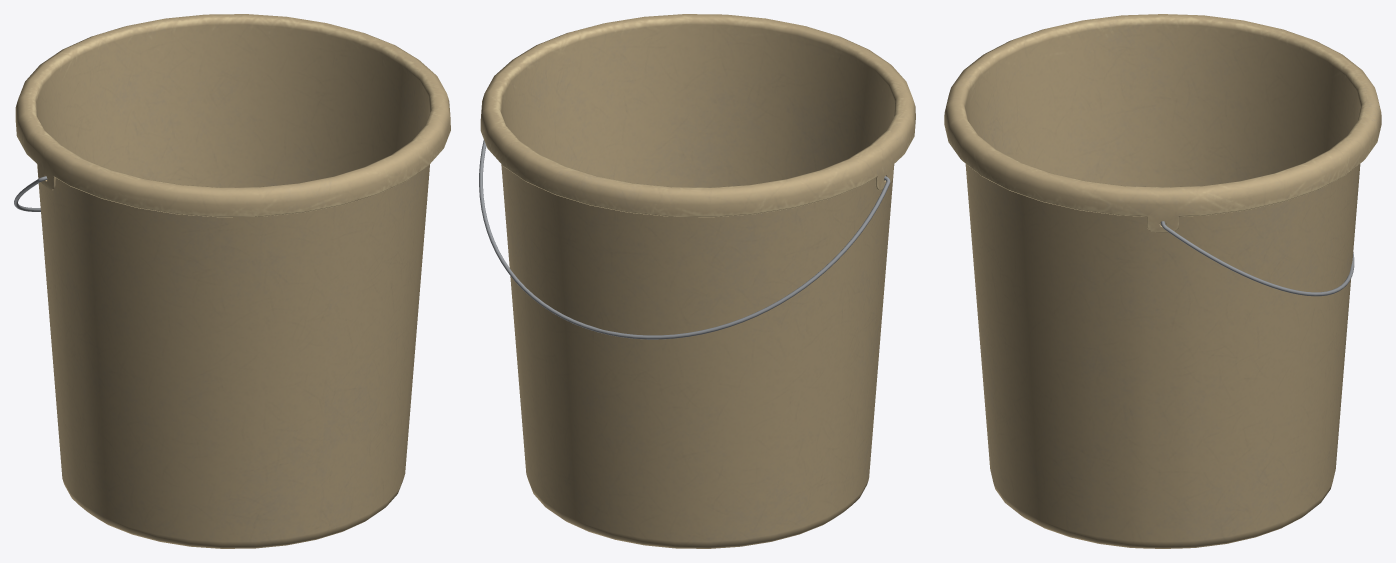
The model's file is bath5.glb.
3 views of the same model, side by side, from view 1: azimuth 30°, elevation 25°; view 2: azimuth 150°, elevation 25°; view 3: azimuth 270°, elevation 25° (orthographic).
Visible parts, largest first — view 1: Object001_01 - Default_0; view 2: Object001_01 - Default_0; view 3: Object001_01 - Default_0.
Boxes of the visible parts, bbox=[...] form: Object001_01 - Default_0: bbox=[14, 14, 450, 548]; Object001_01 - Default_0: bbox=[479, 14, 915, 548]; Object001_01 - Default_0: bbox=[944, 14, 1381, 548].
Bounding box in the file's own units: 0.3411 × 0.3178 × 0.3333.
Materials: 1 (1 with a texture image).
